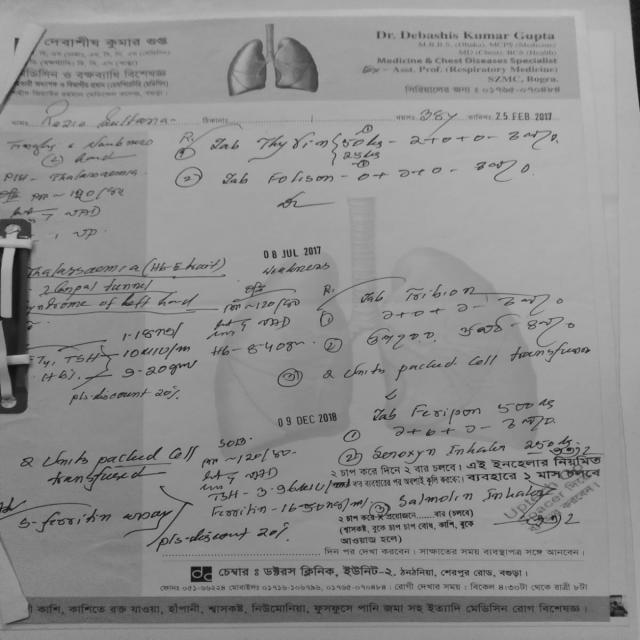medicine: (257, 130, 333, 158), (412, 399, 489, 421), (399, 283, 486, 301), (372, 441, 441, 463), (266, 168, 338, 188), (394, 490, 478, 507)
